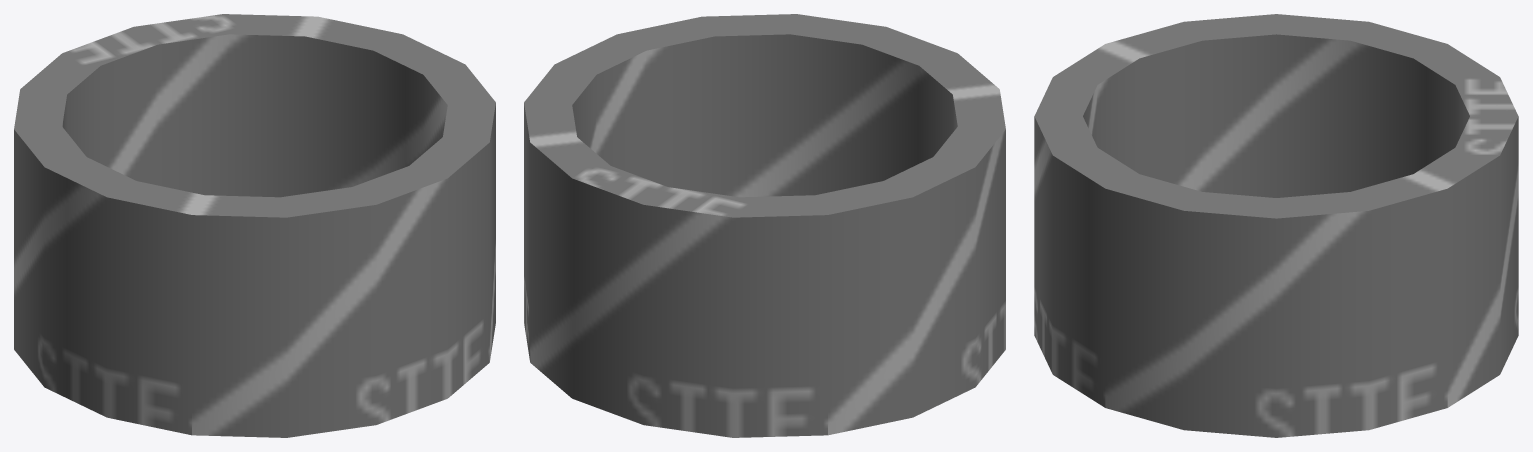
File: FSS-S2-Lower-Barrel.obj
3 renders of one model, left to right at view 1: azimuth 30°, elevation 25°; view 2: azimuth 150°, elevation 25°; view 3: azimuth 270°, elevation 25°, orthographic.
Parts seen in each view (by area): view 1: FSS-S2-Lower-Barrel; view 2: FSS-S2-Lower-Barrel; view 3: FSS-S2-Lower-Barrel.
Part boxes in pixels (x1,y1,x2,y2): FSS-S2-Lower-Barrel: (14, 14, 495, 437); FSS-S2-Lower-Barrel: (524, 14, 1005, 437); FSS-S2-Lower-Barrel: (1034, 14, 1518, 437).
Size of the model in its own units: 0.2 by 0.1 by 0.2.
